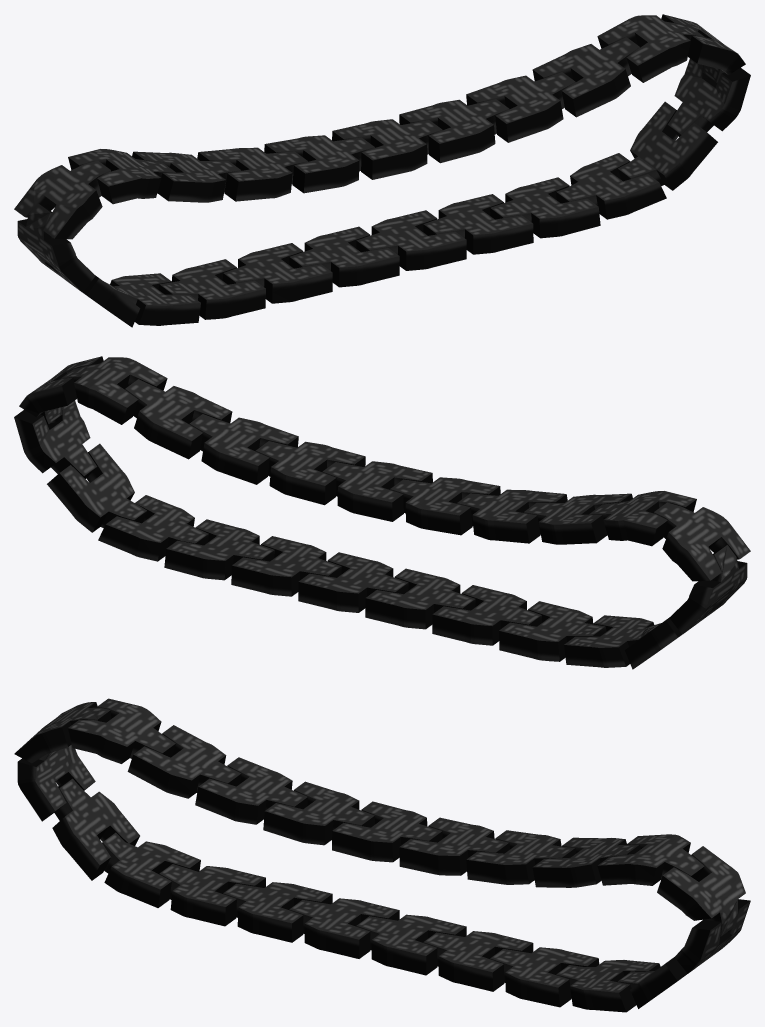
Rendered from StylizedTankLeftTread.fbx.
3 views of the same model, one above another, from view 1: azimuth 30°, elevation 25°; view 2: azimuth 150°, elevation 25°; view 3: azimuth 330°, elevation 25° (orthographic).
Visible parts, largest first — view 1: TreadLeft; view 2: TreadLeft; view 3: TreadLeft.
Boxes of the visible parts, x1,y1,x2,y2 form: TreadLeft: (14,14,750,327); TreadLeft: (14,356,750,669); TreadLeft: (14,698,750,1012).
Bounding box in the file's own units: 195 × 43.33 × 19.75.
